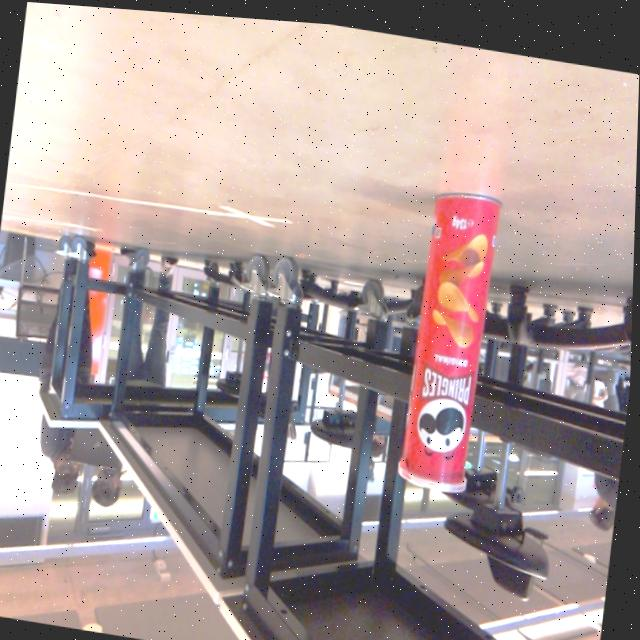redpringles: (383, 173, 515, 500)
